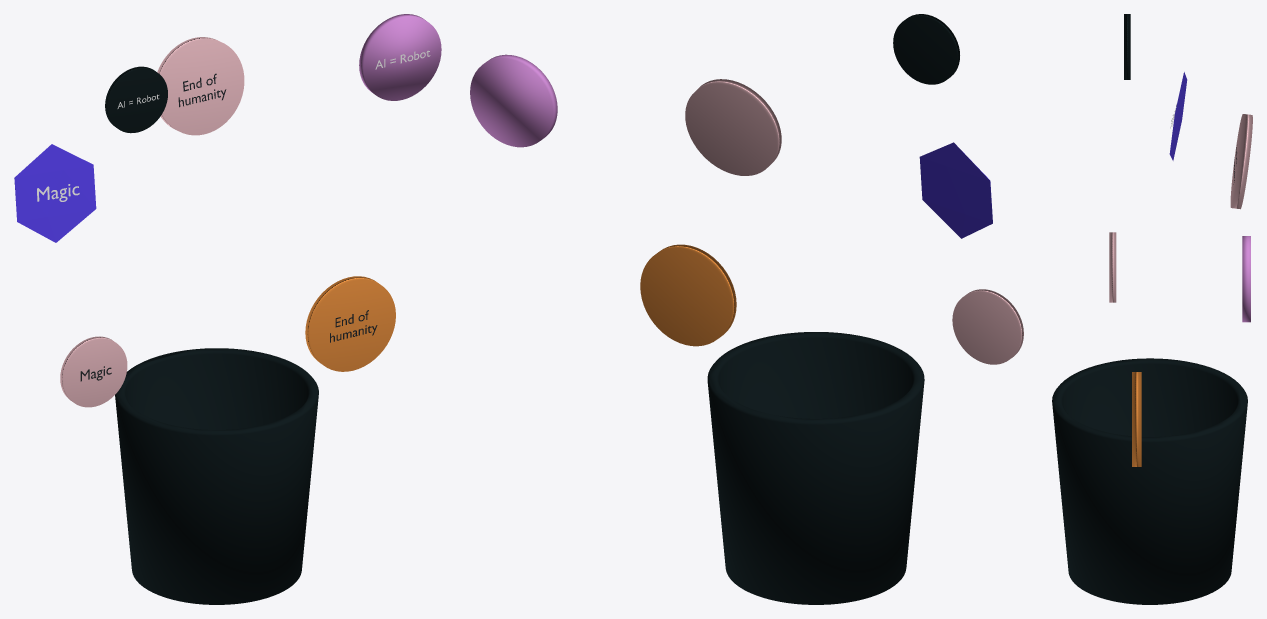
The picture shows the model from 3 angles, left to right: view 1: azimuth 30°, elevation 25°; view 2: azimuth 150°, elevation 25°; view 3: azimuth 270°, elevation 25°; orthographic projection. The views are drawn at different scales.
Visible parts, largest first — view 1: Cylinder, Cylinder.003, Cylinder.001, Icosphere, Text.002, Cylinder.002, Cylinder.005; view 2: Cylinder, Cylinder.003, Cylinder.001, Text.002, Icosphere, Cylinder.002, Cylinder.005; view 3: Cylinder, Cylinder.001, Cylinder.003, Text.002, Icosphere, Cylinder.002, Cylinder.005.
Boxes of the visible parts, <box> form: Cylinder: <box>115,348,318,604</box>; Cylinder.003: <box>305,276,395,371</box>; Cylinder.001: <box>157,37,244,135</box>; Icosphere: <box>14,144,96,242</box>; Text.002: <box>359,14,441,100</box>; Cylinder.002: <box>60,336,127,407</box>; Cylinder.005: <box>105,66,167,133</box>; Cylinder: <box>707,332,924,604</box>; Cylinder.003: <box>640,244,736,346</box>; Cylinder.001: <box>685,79,781,175</box>; Text.002: <box>470,54,557,147</box>; Icosphere: <box>919,142,992,238</box>; Cylinder.002: <box>952,289,1023,364</box>; Cylinder.005: <box>893,14,959,84</box>; Cylinder: <box>1052,358,1247,604</box>; Cylinder.001: <box>1230,114,1252,209</box>; Cylinder.003: <box>1132,372,1141,466</box>; Text.002: <box>1242,236,1250,322</box>; Icosphere: <box>1169,72,1187,160</box>; Cylinder.002: <box>1109,232,1116,302</box>; Cylinder.005: <box>1124,14,1130,79</box>.
Size of the model in its own units: 6.19 by 6.9 by 2.46.
